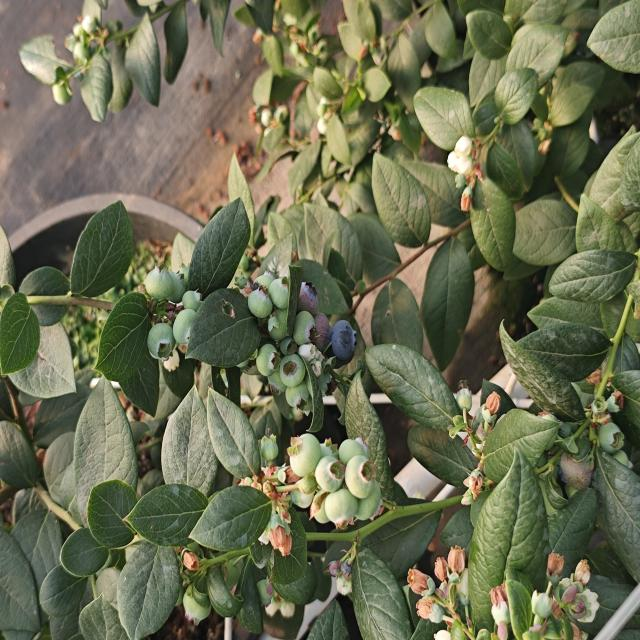ripe: (327, 314, 359, 359)
